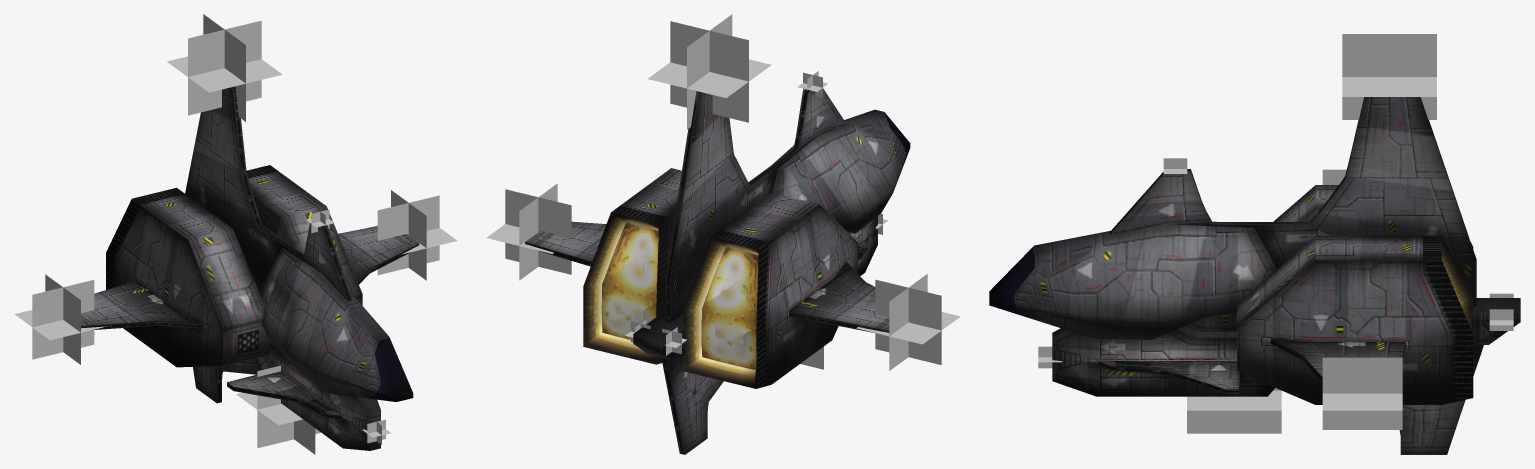
File: pacifier.obj
The picture shows the model from 3 angles, left to right: view 1: azimuth 30°, elevation 25°; view 2: azimuth 150°, elevation 25°; view 3: azimuth 270°, elevation 25°; orthographic projection. The views are drawn at different scales.
Size of the model in its own units: 37.18 by 32.83 by 37.66.
